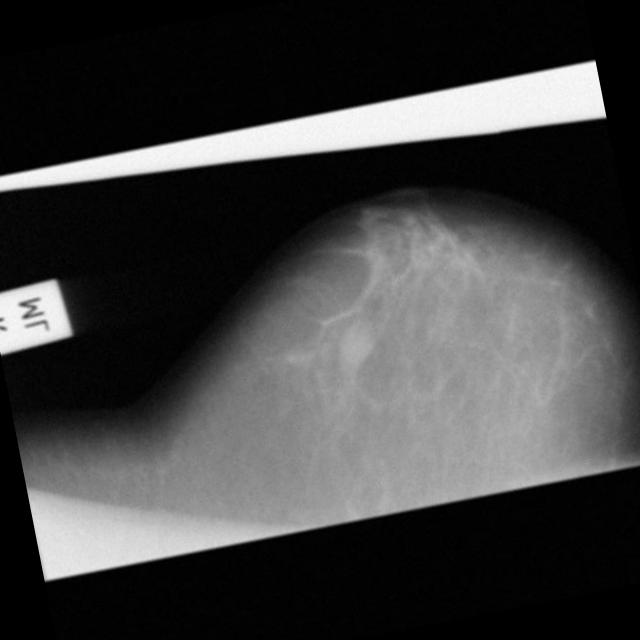CIRC: (329, 310, 388, 368)
